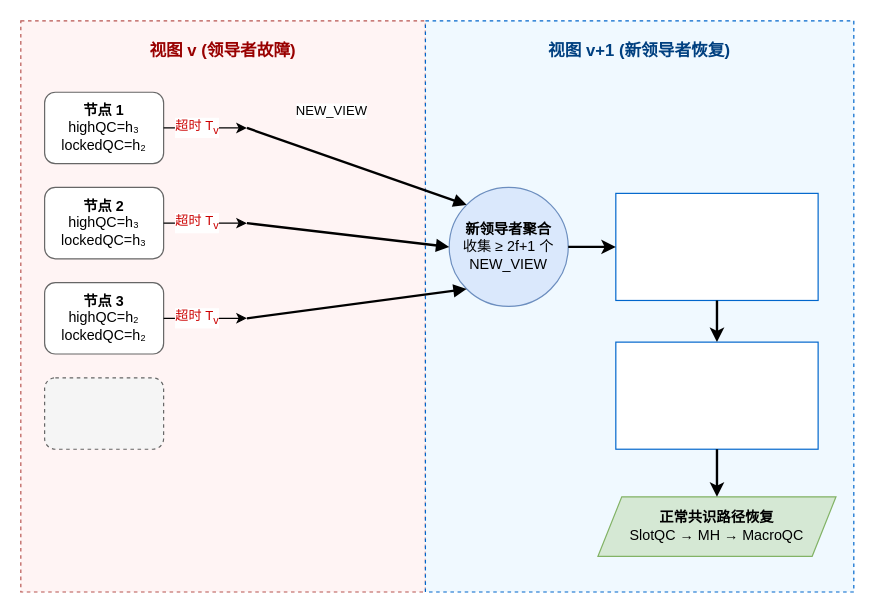
The diagram is 875 pixels wide and 613 high, and some of its shapes have lost their labels. The shapes that lost their labels are listed below. From the top down, each one's centre as x and y in pixels, then its label:
the point at 716,246: 确定恢复点 QC* = max({highQC}) = MacroQC(h₃) 新高度 h = h₃ + 1
the point at 103,413: 节点 4 (拜占庭/离线) 无响应
the point at 716,395: 初始化新视图 • 启动并行槽提议者 • 设置 parentQC = QC* • 广播新宏块提议
